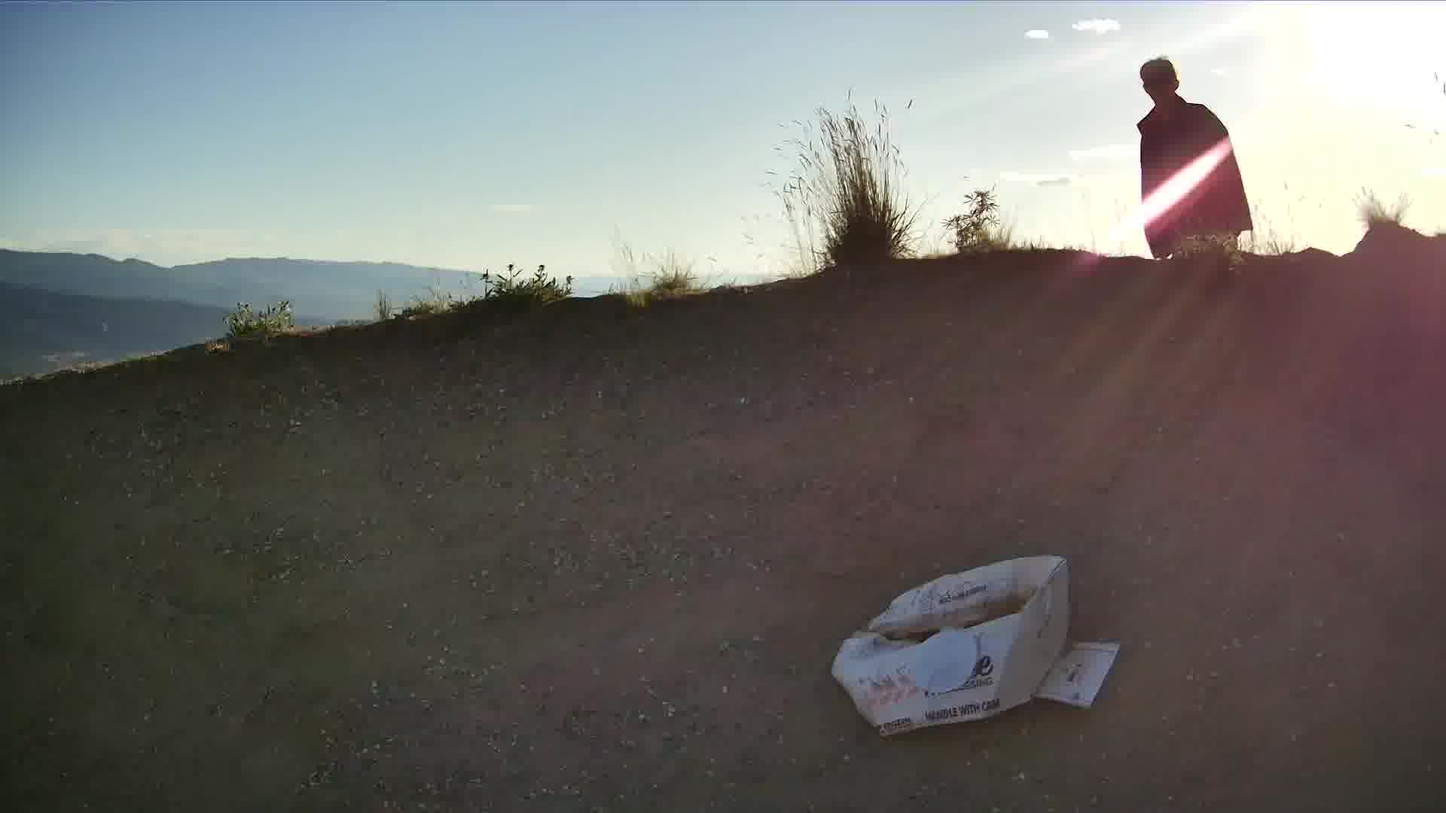Target: (911, 625, 975, 693)
